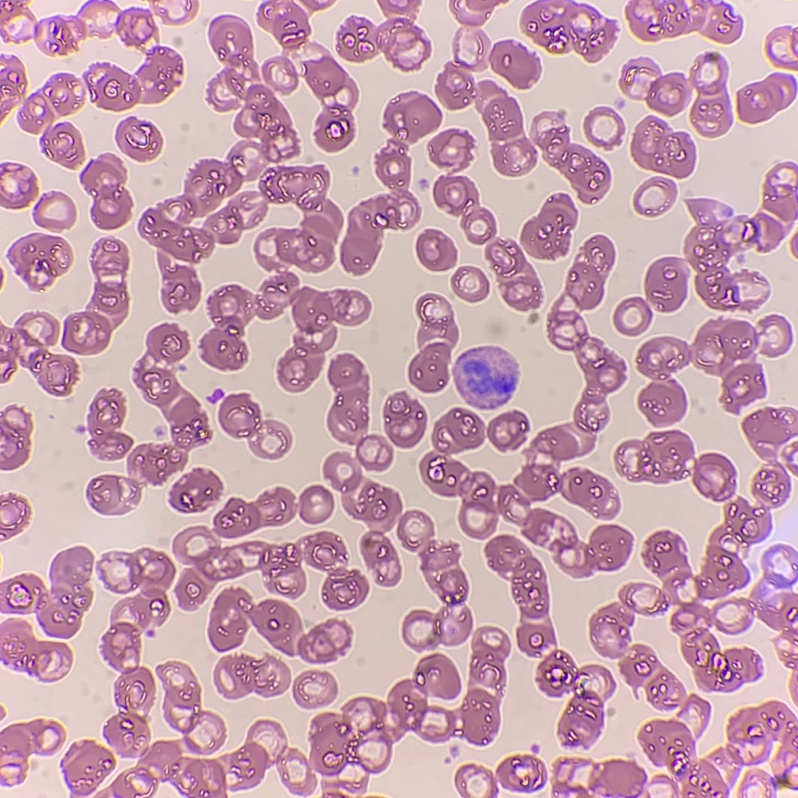RBC: (97, 549, 389, 797), (590, 407, 797, 717), (139, 15, 298, 238), (145, 165, 342, 312), (420, 408, 619, 544), (200, 272, 370, 391), (340, 92, 441, 274), (173, 526, 367, 609), (390, 627, 509, 759), (309, 654, 470, 741), (637, 320, 765, 426), (127, 324, 211, 484), (685, 198, 786, 310), (436, 64, 535, 175), (398, 511, 472, 649), (85, 8, 182, 110), (549, 311, 624, 432), (615, 430, 734, 501), (485, 535, 554, 656), (0, 547, 92, 637), (62, 239, 128, 354), (328, 354, 392, 469), (538, 651, 614, 745), (647, 52, 730, 136), (639, 720, 727, 797), (337, 0, 430, 69), (0, 313, 77, 395), (157, 662, 224, 754), (208, 589, 301, 653), (324, 453, 401, 528), (520, 0, 614, 61), (535, 127, 609, 203), (614, 257, 686, 335), (714, 702, 797, 766), (305, 55, 357, 151), (626, 0, 741, 42), (408, 294, 457, 392), (219, 394, 290, 458), (0, 621, 71, 681), (433, 176, 495, 243), (453, 346, 517, 409), (214, 488, 295, 537), (557, 525, 632, 577), (485, 240, 540, 310), (631, 117, 695, 177), (81, 154, 131, 229), (565, 235, 614, 309), (8, 233, 71, 290), (552, 759, 646, 797), (521, 194, 576, 258), (214, 656, 289, 698), (88, 390, 131, 459), (0, 720, 64, 766), (63, 740, 114, 797), (737, 74, 795, 122), (258, 1, 309, 50), (490, 40, 540, 88), (383, 392, 426, 447), (297, 619, 350, 663), (747, 593, 797, 638), (170, 468, 221, 512), (361, 530, 400, 585), (86, 475, 140, 514), (763, 162, 797, 221), (0, 406, 31, 469), (116, 117, 161, 160), (41, 123, 83, 167), (496, 755, 546, 791), (584, 107, 624, 149), (429, 129, 473, 166), (293, 671, 337, 708), (0, 163, 36, 208), (34, 192, 75, 231), (417, 229, 456, 270), (634, 177, 675, 215), (487, 411, 528, 449), (0, 59, 25, 117), (45, 74, 80, 114), (262, 56, 297, 93), (451, 267, 488, 301), (300, 485, 333, 523), (20, 93, 52, 132), (49, 20, 85, 53), (620, 58, 658, 89), (0, 496, 29, 536), (455, 764, 477, 791), (0, 0, 22, 19), (466, 0, 498, 12), (770, 772, 790, 788), (774, 56, 797, 69), (214, 100, 237, 111), (476, 33, 488, 52), (783, 442, 797, 457), (3, 774, 22, 785), (765, 315, 784, 325), (185, 0, 197, 15), (465, 15, 483, 25), (771, 27, 786, 39), (582, 436, 594, 451), (259, 256, 272, 268), (304, 0, 317, 10), (768, 574, 781, 584), (786, 658, 797, 669), (791, 236, 797, 254), (551, 112, 564, 120), (790, 31, 797, 43), (767, 348, 777, 356), (97, 791, 108, 797), (492, 326, 500, 334), (486, 791, 495, 797), (0, 374, 4, 382), (793, 465, 797, 473)
